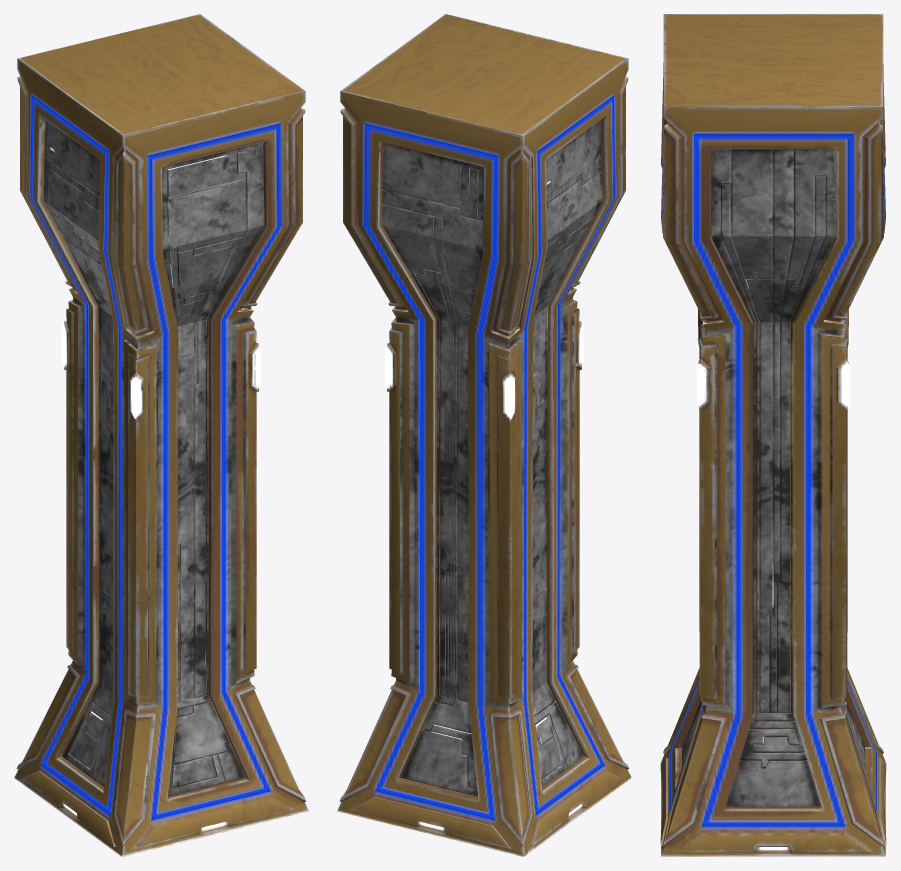
3 renders of one model, left to right at view 1: azimuth 30°, elevation 25°; view 2: azimuth 150°, elevation 25°; view 3: azimuth 270°, elevation 25°, orthographic. The views are drawn at different scales.
Visible parts, largest first — view 1: FuturisticPillar-bake; view 2: FuturisticPillar-bake; view 3: FuturisticPillar-bake.
Boxes of the visible parts, left/top/right/bottom form: FuturisticPillar-bake: left=14, top=14, right=308, bottom=856; FuturisticPillar-bake: left=337, top=14, right=631, bottom=856; FuturisticPillar-bake: left=660, top=14, right=886, bottom=856.
Bounding box in the file's own units: 1.64 × 6 × 1.64.
Materials: 1 (1 with a texture image).
